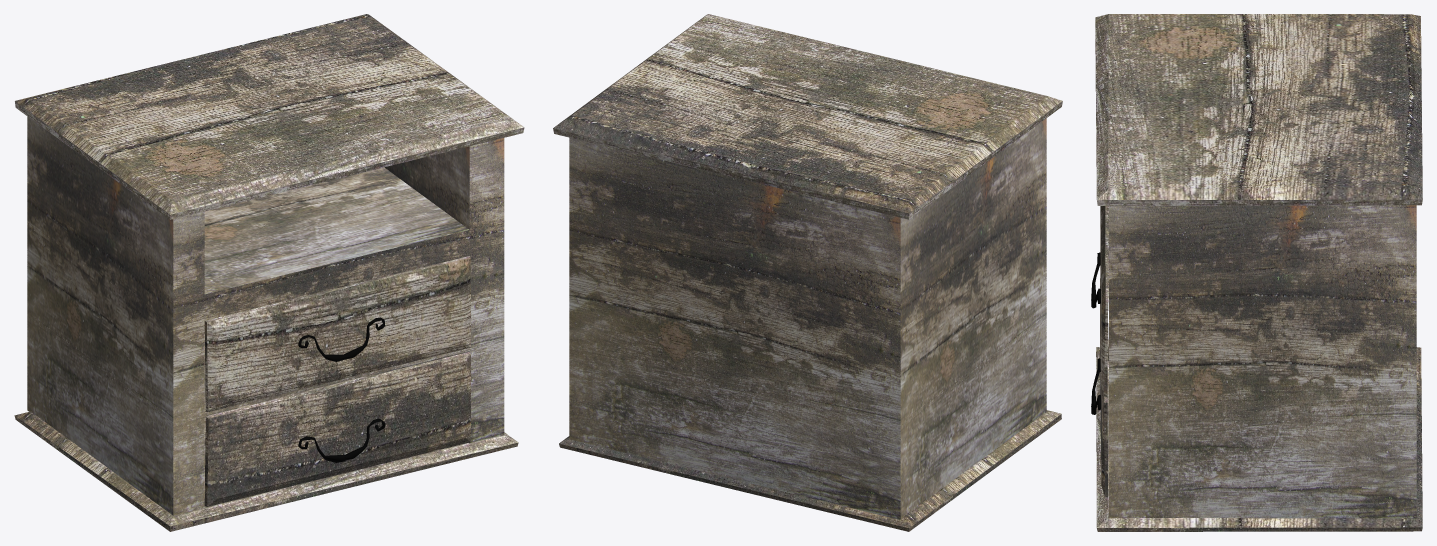
Rendered from mesa_cajones.FBX.
3 renders of one model, left to right at view 1: azimuth 30°, elevation 25°; view 2: azimuth 150°, elevation 25°; view 3: azimuth 270°, elevation 25°, orthographic. The views are drawn at different scales.
Visible parts, largest first — view 1: Box492, Box486, Box487, Box485; view 2: Box492, Box486, Box485; view 3: Box492, Box486, Box485, Box487.
Part boxes in pixels (x1,y1,x2,y2): Box492: [27, 116, 504, 515]; Box486: [15, 14, 524, 219]; Box487: [204, 256, 470, 506]; Box485: [14, 374, 518, 531]; Box492: [569, 118, 1046, 519]; Box486: [553, 14, 1062, 219]; Box485: [559, 410, 1061, 531]; Box492: [1109, 205, 1416, 519]; Box486: [1095, 14, 1422, 205]; Box485: [1096, 347, 1422, 531]; Box487: [1100, 206, 1108, 497].
Bounding box in the file's own units: 22.37 × 19.52 × 17.11.
